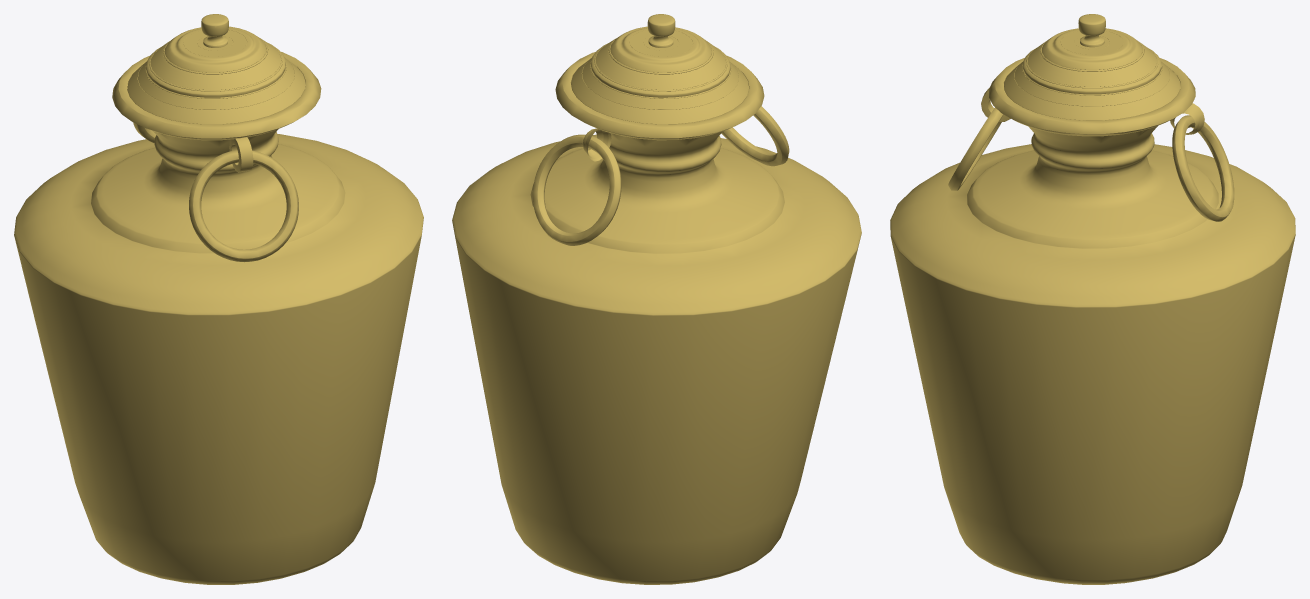
File: Pot.glb
The picture shows the model from 3 angles, left to right: view 1: azimuth 30°, elevation 25°; view 2: azimuth 150°, elevation 25°; view 3: azimuth 270°, elevation 25°; orthographic projection.
Parts seen in each view (by area): view 1: Pot.001; view 2: Pot.001; view 3: Pot.001.
Boxes of the visible parts, <box> form: Pot.001: <box>14,14,423,584</box>; Pot.001: <box>452,14,861,584</box>; Pot.001: <box>890,14,1295,584</box>.
Bounding box in the file's own units: 3.31 × 4.82 × 3.31.
